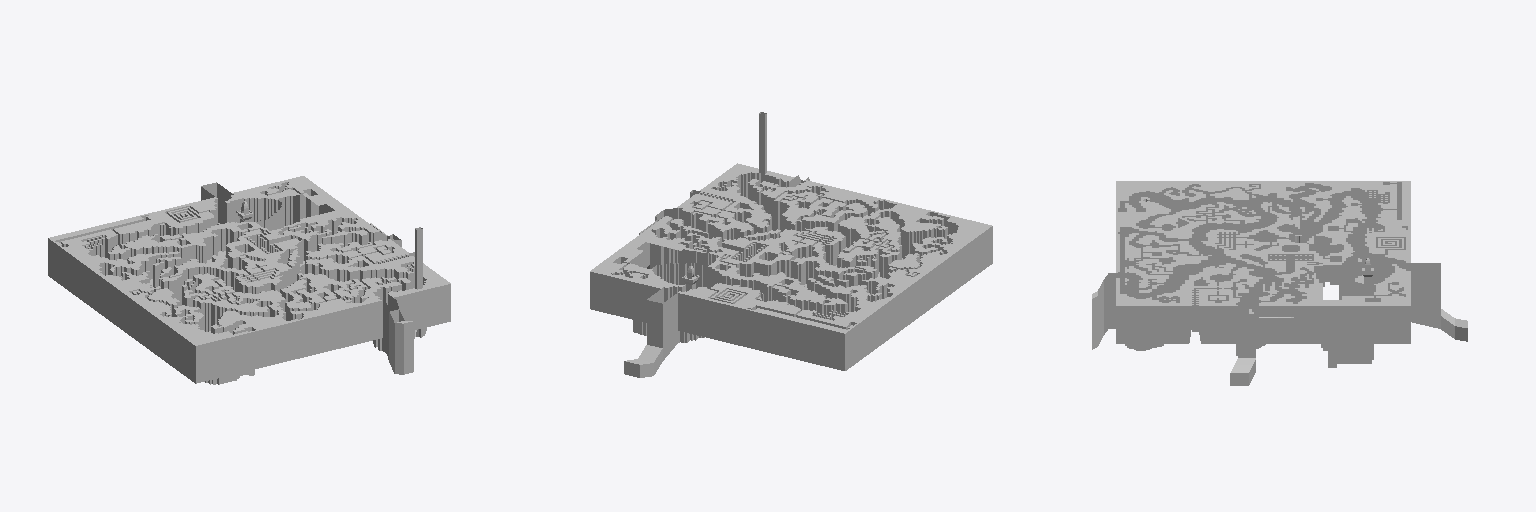
Rendered from 5.full.obj.
The picture shows the model from 3 angles: view 1: azimuth 30°, elevation 25°; view 2: azimuth 150°, elevation 25°; view 3: azimuth 270°, elevation 25°; orthographic projection.
Bounding box in the file's own units: 670 × 289 × 765.